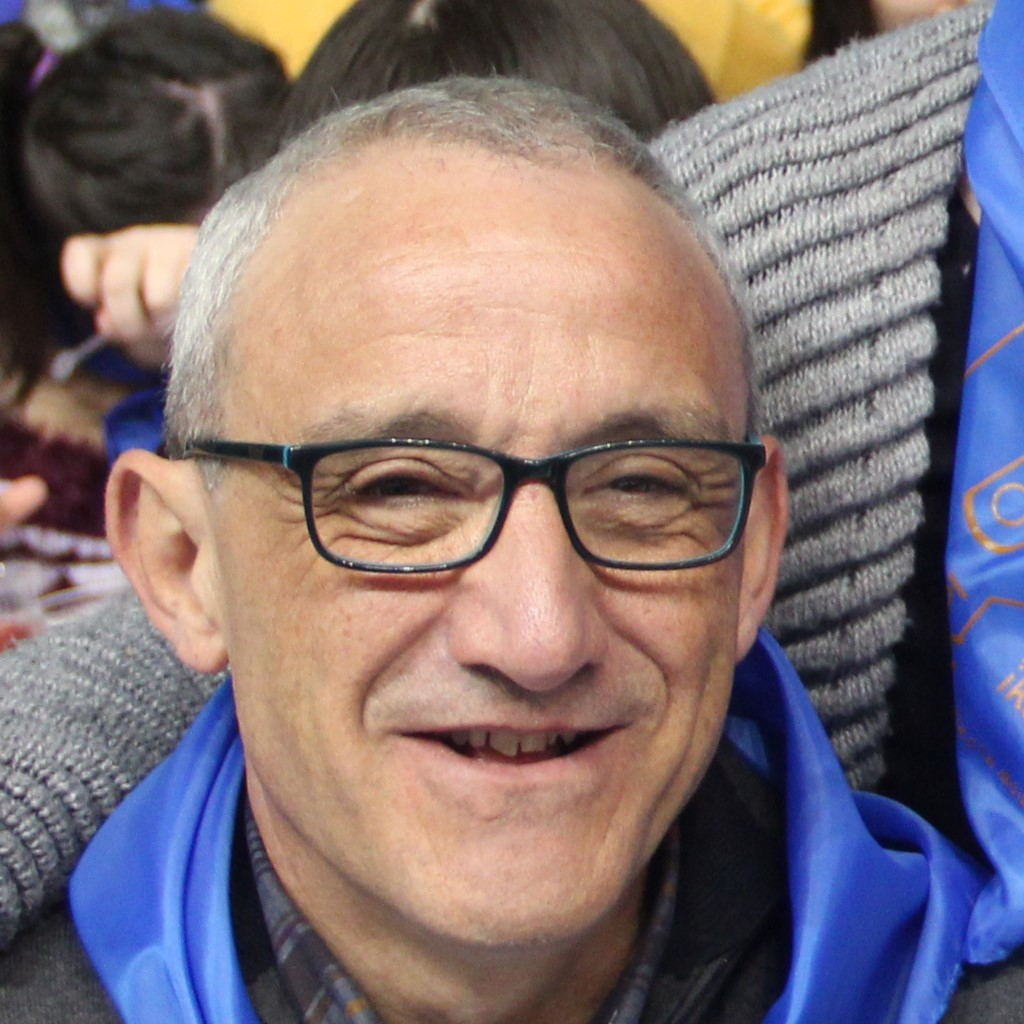sin_mascara: (240, 195, 739, 909)
